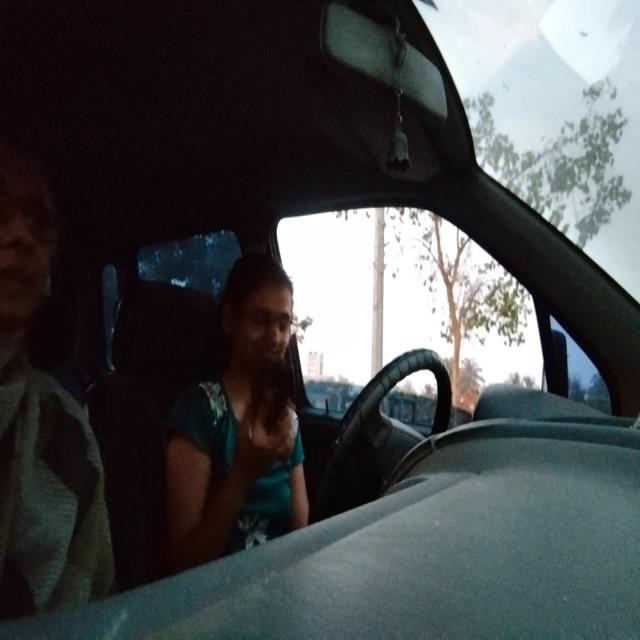mobile: (246, 355, 298, 439)
person: (0, 169, 63, 351), (219, 249, 297, 374)
